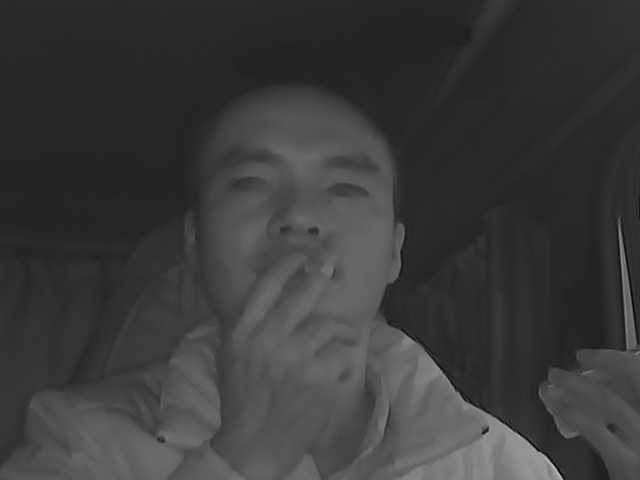hand: (235, 249, 363, 403)
